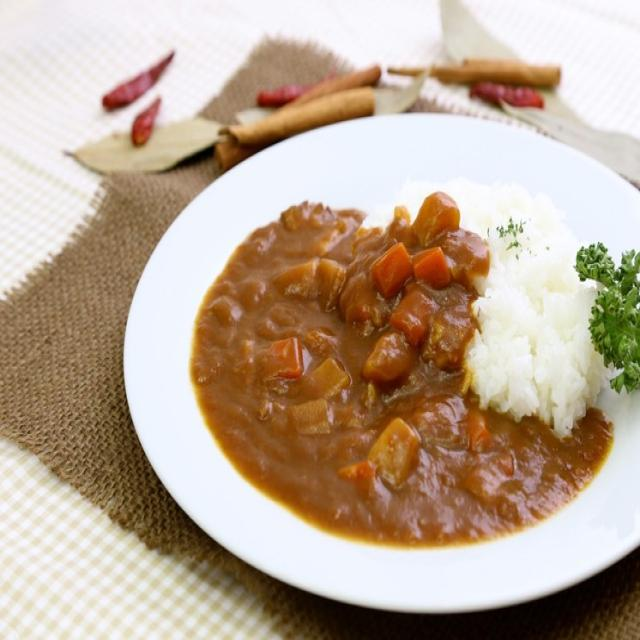Wet: (187, 178, 611, 542)
